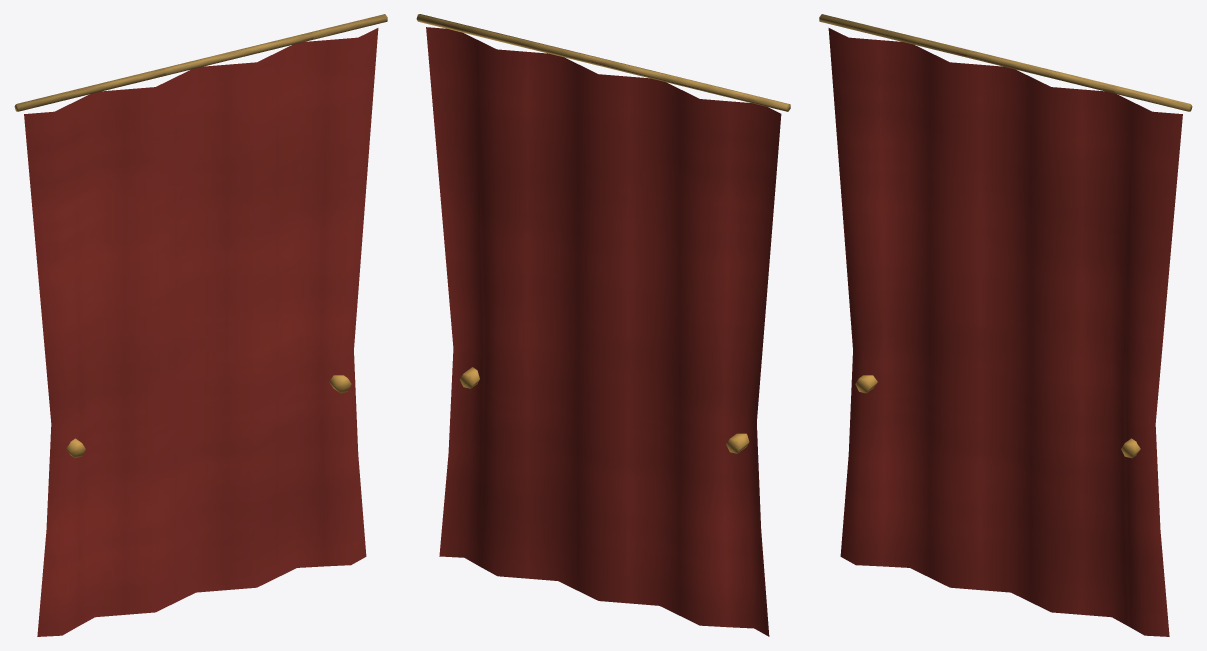
File: Curtain_Drape_1_LOD1.gltf
3 views of the same model, side by side, from view 1: azimuth 30°, elevation 25°; view 2: azimuth 150°, elevation 25°; view 3: azimuth 330°, elevation 25° (orthographic).
Visible parts, largest first — view 1: Curtain_Drape_1_LOD1; view 2: Curtain_Drape_1_LOD1; view 3: Curtain_Drape_1_LOD1.
Part boxes in pixels (x1,y1,x2,y2): Curtain_Drape_1_LOD1: (14,14,387,636); Curtain_Drape_1_LOD1: (416,14,790,636); Curtain_Drape_1_LOD1: (819,14,1192,636).
Size of the model in its own units: 2.5 by 3.47 by 0.18.
3 materials, 3 textured.
